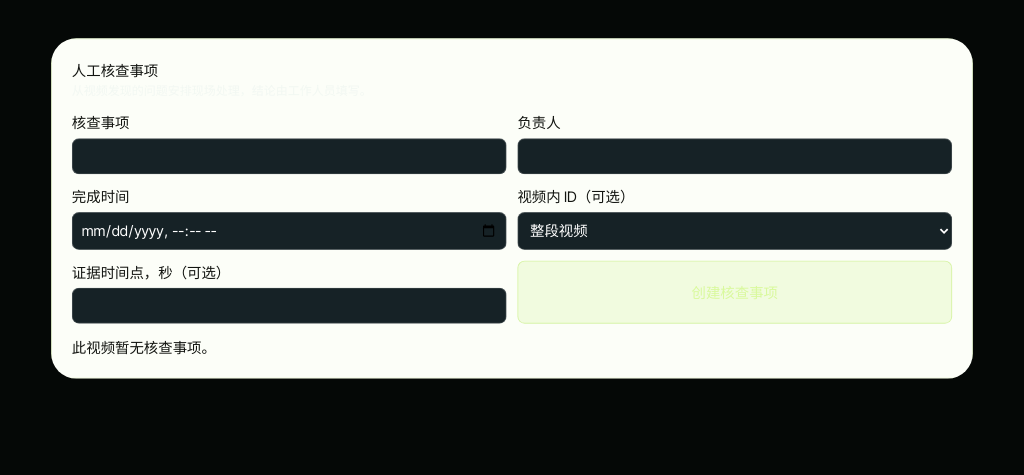
Test: creates a followup task bound to the selected video
The width and height of the screenshot is (1024, 475).
In the field labelled "核查事项": point(289, 156) [72,138,507,174], type "检查活动情况"
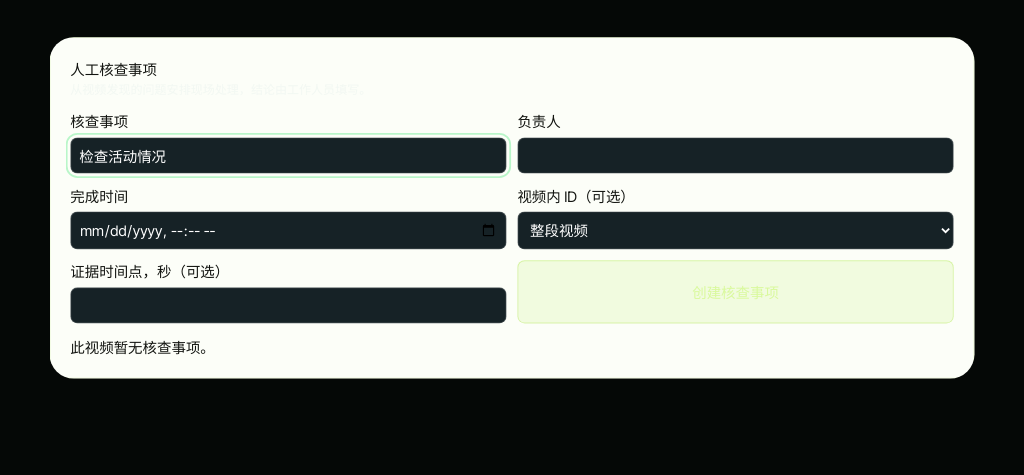
In the field labelled "负责人": point(736, 155) [517,137,954,174], type "李四"
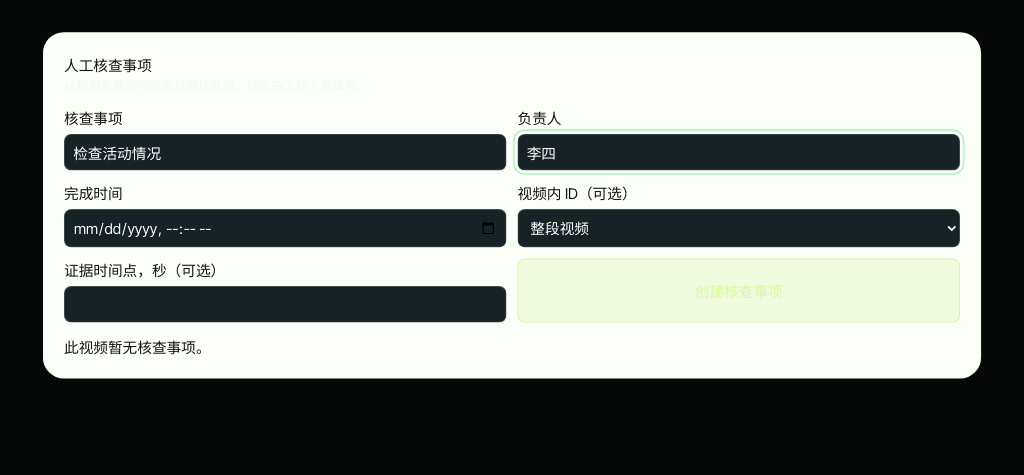
In the field labelled "完成时间": point(285, 228) [64,209,506,248], type "2026-10-23T14:30"
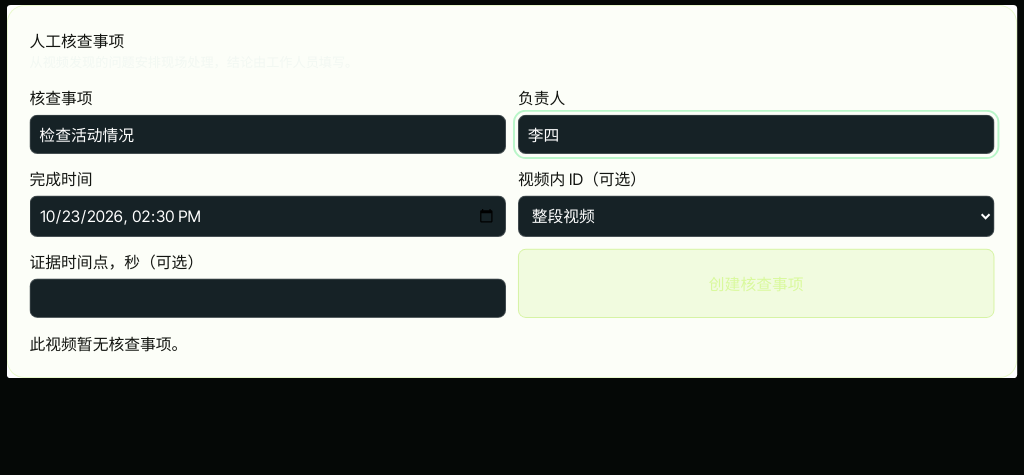
Select "7" in the dropdown labelled "视频内 ID（可选）": point(756, 216) [518,196,994,237]
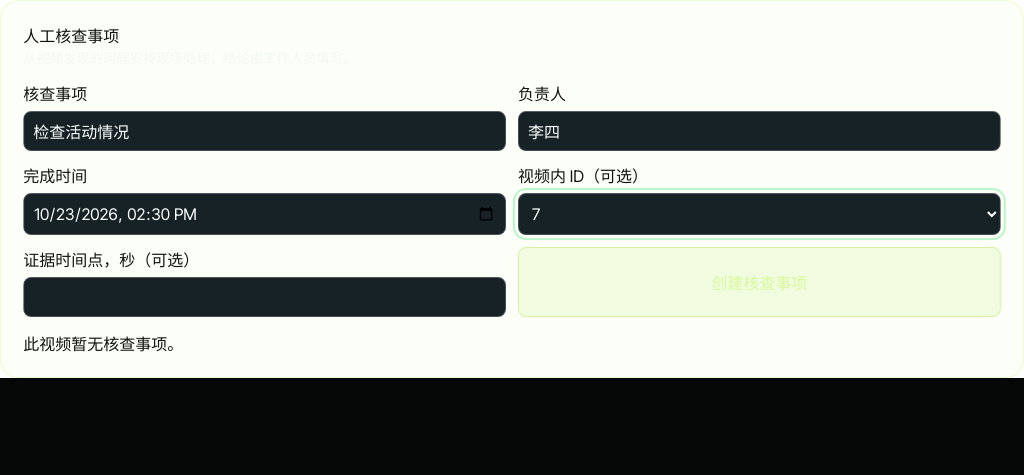
Click the button "创建核查事项": point(759, 282) [518,247,1001,317]
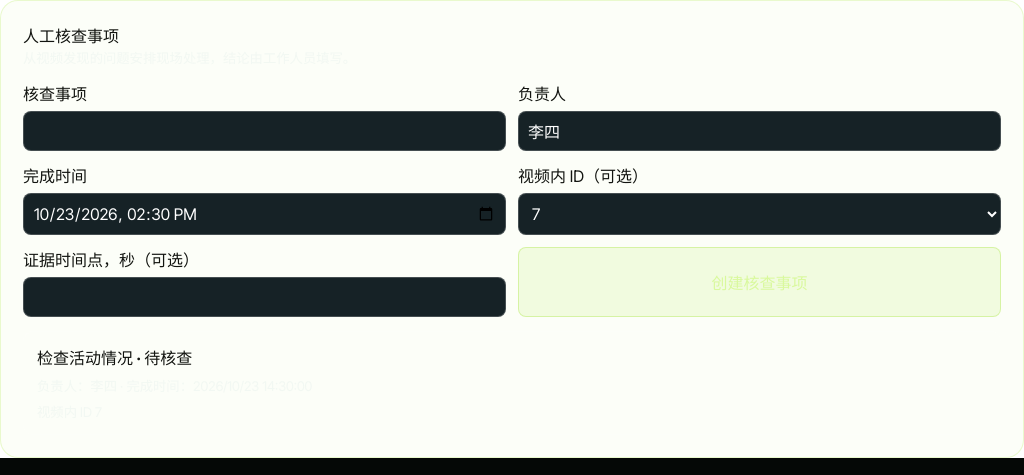
Expected: the text "检查活动情况 · 待核查" is shown, [37,348,192,368]
